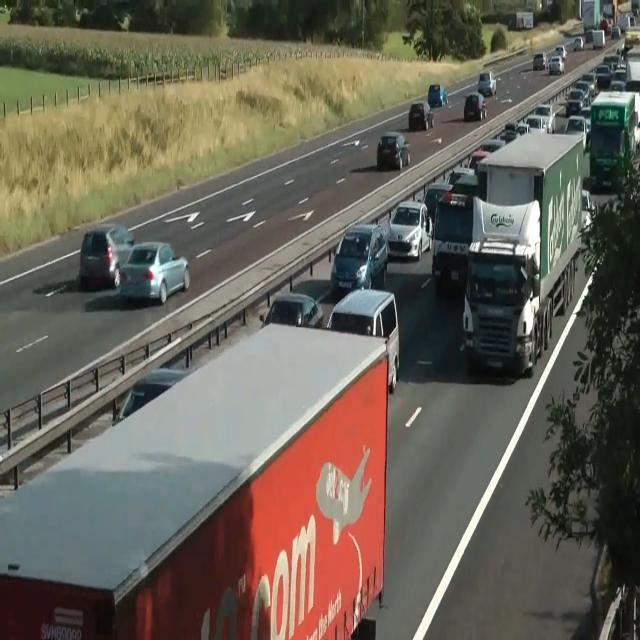bus: (118, 241, 190, 304), (114, 367, 189, 425), (387, 200, 433, 260), (259, 291, 323, 329), (421, 182, 454, 223), (376, 132, 410, 170), (468, 138, 505, 170), (564, 115, 590, 151), (408, 100, 434, 130), (463, 91, 487, 121), (580, 188, 596, 232), (564, 88, 586, 116), (446, 167, 475, 187), (478, 70, 497, 96), (428, 84, 448, 108), (497, 129, 519, 145), (618, 13, 636, 32), (533, 52, 547, 70), (598, 18, 612, 36), (555, 46, 567, 61), (574, 36, 584, 50), (611, 26, 621, 39)
car: (462, 195, 542, 376)
jeep: (326, 287, 400, 393), (431, 192, 475, 290), (330, 222, 388, 292), (78, 222, 134, 290), (548, 54, 564, 75)
minibus: (0, 321, 388, 639), (462, 130, 584, 376), (588, 89, 640, 191)
